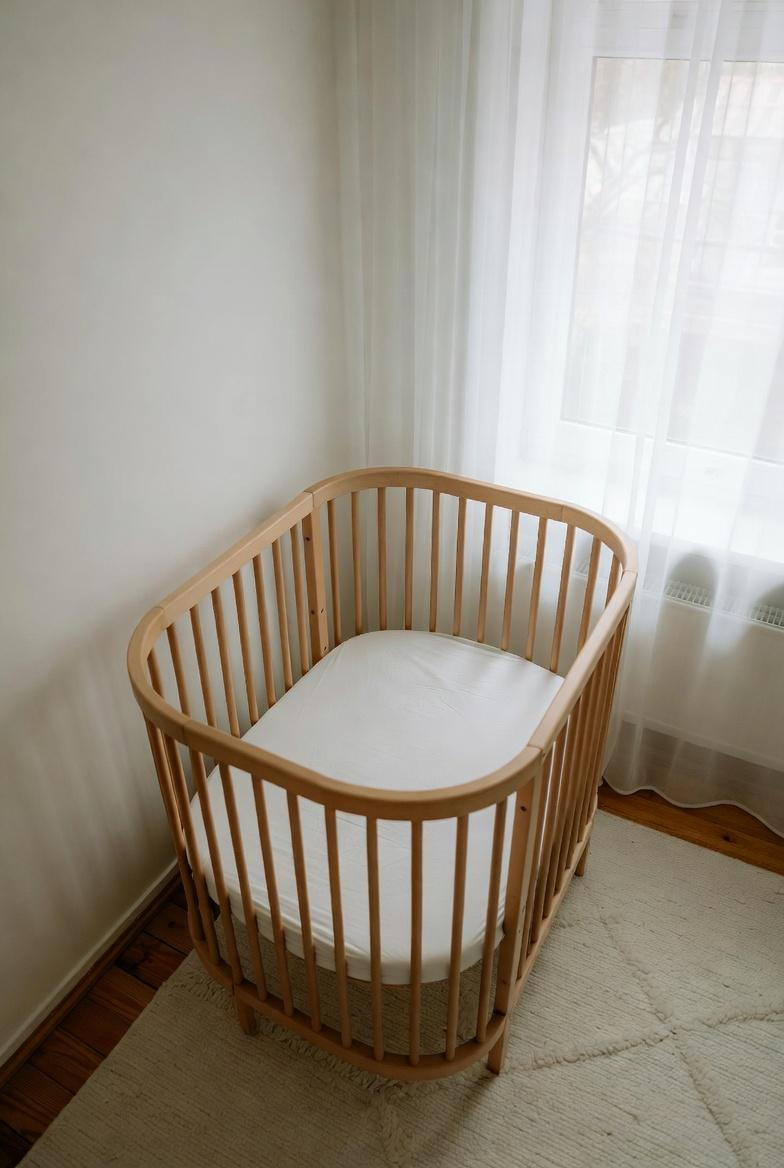crib: (128, 468, 636, 1079)
